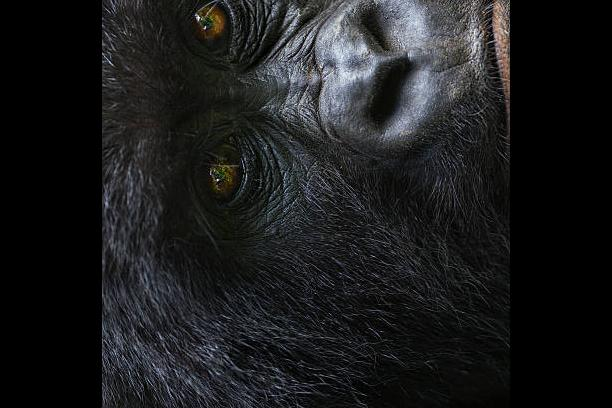goriile_montagne: (107, 0, 510, 408)
